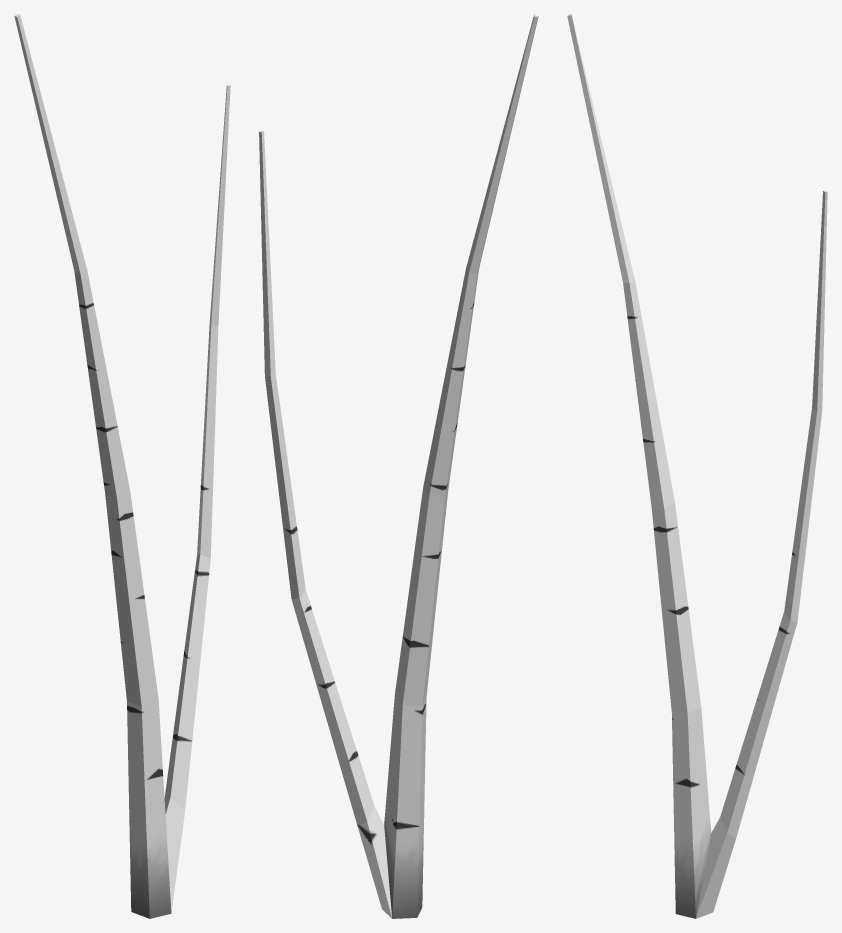
The model's file is Birch_Tree_NoLeaves_m_05_LOD.fbx.
The picture shows the model from 3 angles, left to right: view 1: azimuth 30°, elevation 25°; view 2: azimuth 150°, elevation 25°; view 3: azimuth 330°, elevation 25°; orthographic projection. The views are drawn at different scales.
Visible parts, largest first — view 1: Birch_Tree_NoLeaves_m_05_LOD0; view 2: Birch_Tree_NoLeaves_m_05_LOD0; view 3: Birch_Tree_NoLeaves_m_05_LOD0.
Boxes of the visible parts, x1,y1,x2,y2 form: Birch_Tree_NoLeaves_m_05_LOD0: [14, 14, 230, 918]; Birch_Tree_NoLeaves_m_05_LOD0: [259, 14, 538, 918]; Birch_Tree_NoLeaves_m_05_LOD0: [567, 14, 827, 918].
Size of what is drawn, in the model's own units: 170 by 610 by 54.44.
